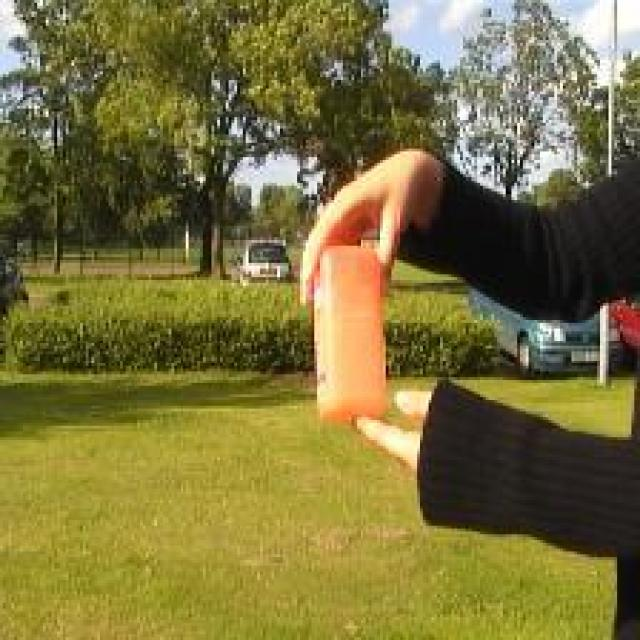other: (274, 225, 408, 421)
